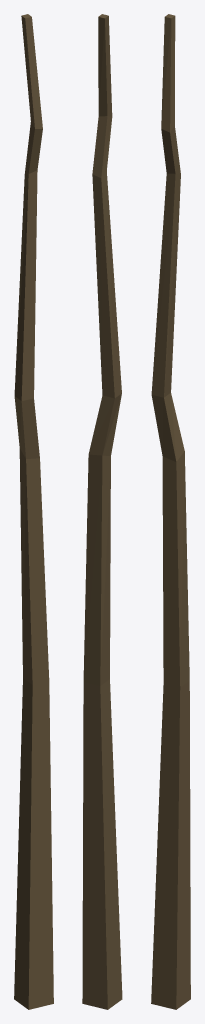
Rendered from SM_Prop_Pole_01.glb.
The picture shows the model from 3 angles, left to right: view 1: azimuth 30°, elevation 25°; view 2: azimuth 150°, elevation 25°; view 3: azimuth 330°, elevation 25°; orthographic projection.
Parts seen in each view (by area): view 1: SM_Prop_Pole_01_part00; view 2: SM_Prop_Pole_01_part00; view 3: SM_Prop_Pole_01_part00.
Part boxes in pixels (box(x1,y1,x2,y2)): SM_Prop_Pole_01_part00: box(14, 14, 53, 1009); SM_Prop_Pole_01_part00: box(82, 14, 122, 1009); SM_Prop_Pole_01_part00: box(151, 14, 190, 1009).
Size of the model in its own units: 0.3383 by 11.15 by 0.2997.
1 material, 1 textured.
